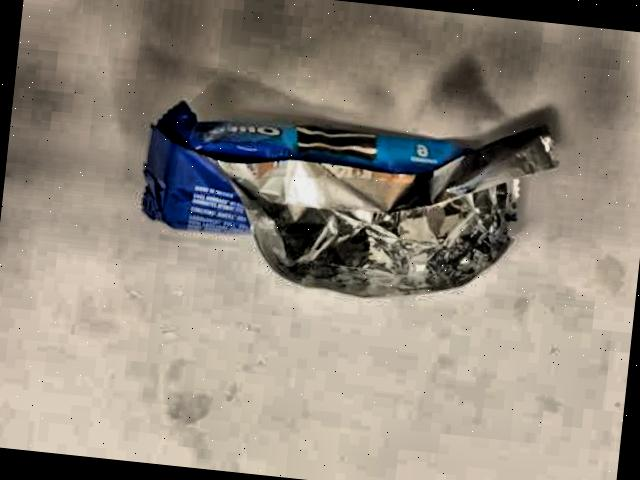Plastic: (114, 59, 584, 330)
